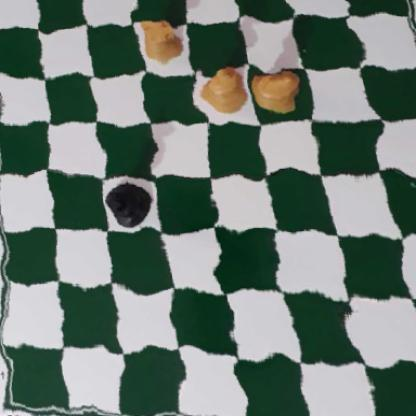black-king: (105, 185, 156, 229)
white-bishop: (250, 63, 305, 114)
white-king: (194, 59, 254, 119)
white-rook: (135, 17, 187, 65)
